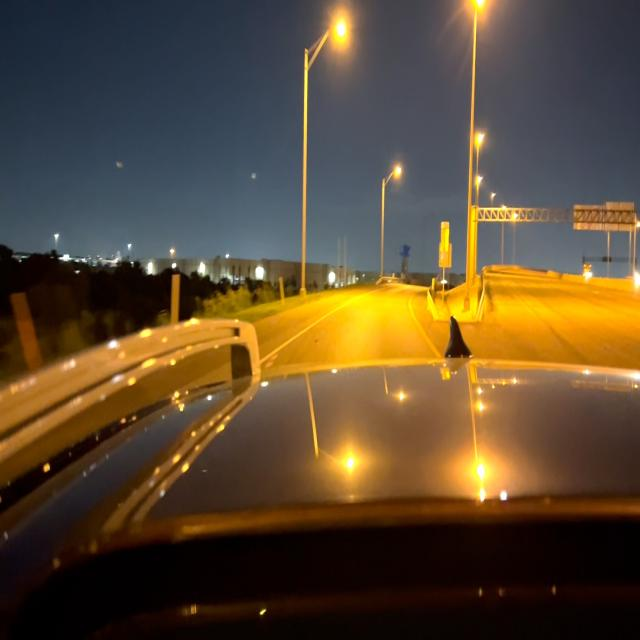back-of-sign: (605, 200, 634, 231), (573, 206, 604, 230), (439, 243, 451, 268), (441, 222, 448, 251)
